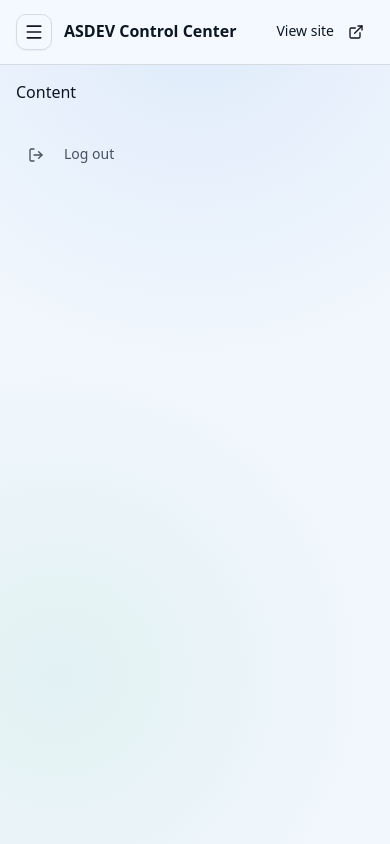
it: AdminShell navigation › opens mobile navigation with the same route links
The image size is (390, 844).
Click the button named "open admin navigation" at [34, 32], box [16,14,52,50]
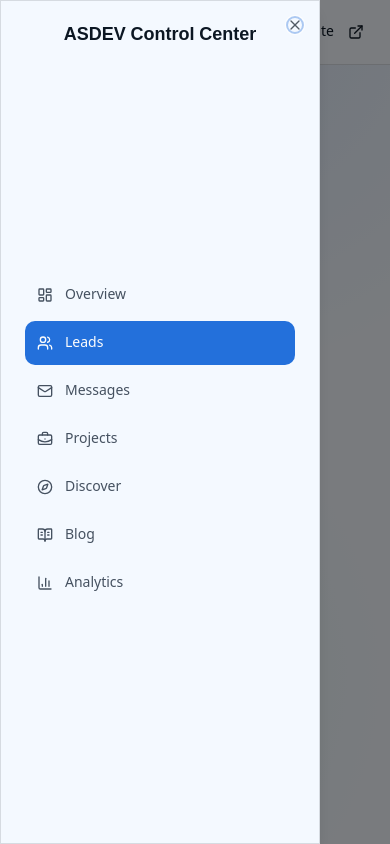
Expected: the dialog is shown
